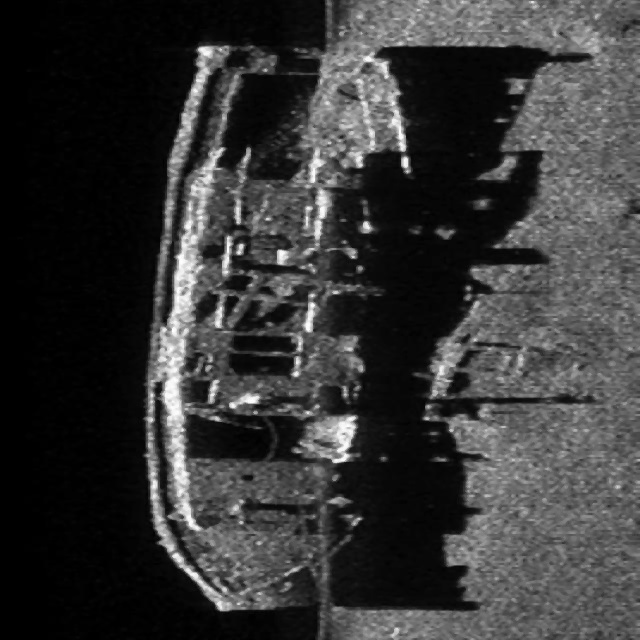Ship: (119, 27, 429, 625)
